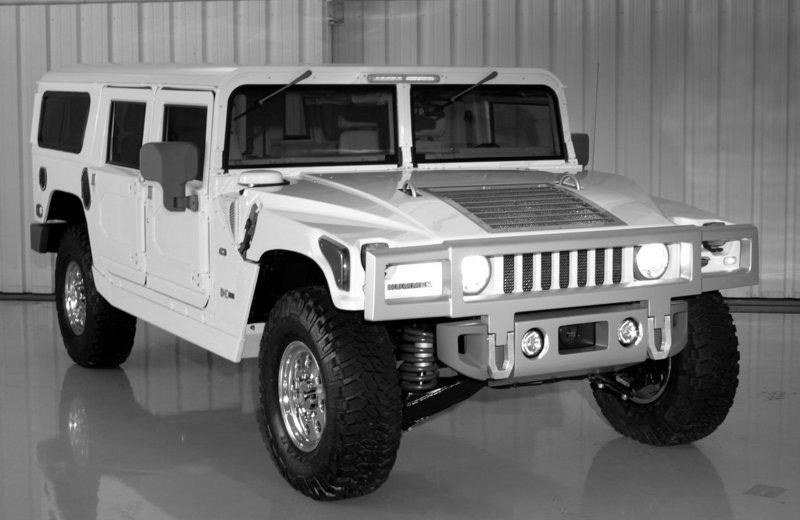car: (26, 62, 763, 504)
